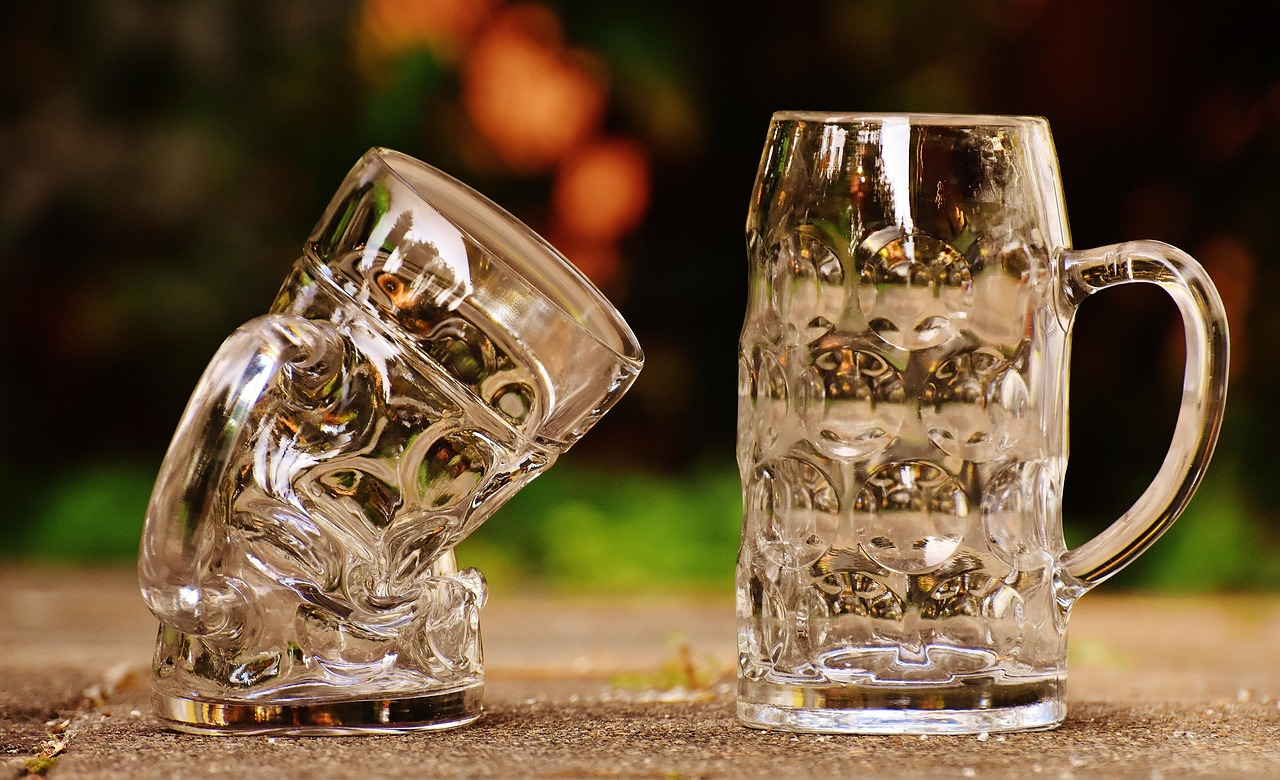mug: (705, 83, 1221, 780)
